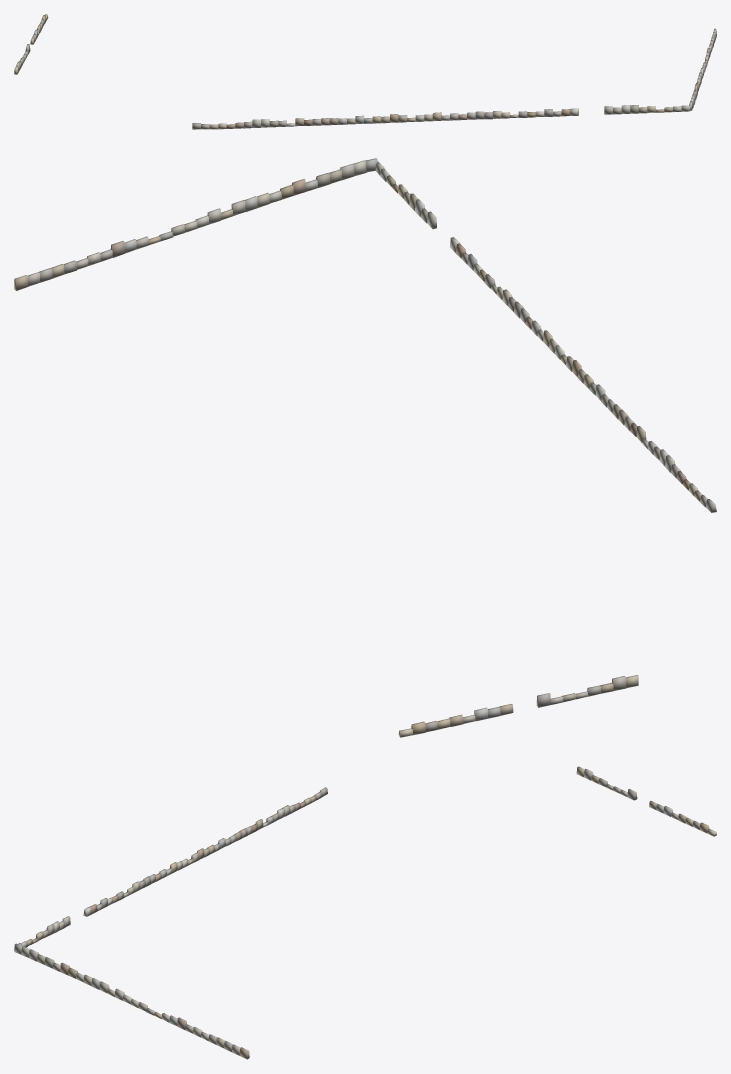
The model's file is farm_1_13_far.glb.
3 views of the same model, one above another, from view 1: azimuth 30°, elevation 25°; view 2: azimuth 150°, elevation 25°; view 3: azimuth 270°, elevation 25° (orthographic). The views are drawn at different scales.
Parts seen in each view (by area): view 1: geometry_0; view 2: geometry_0; view 3: geometry_0.
Boxes of the visible parts, x1,y1,x2,y2 form: geometry_0: (14, 14, 716, 129); geometry_0: (14, 158, 716, 737); geometry_0: (14, 766, 716, 1059).
Size of the model in its own units: 118 by 12.95 by 117.
